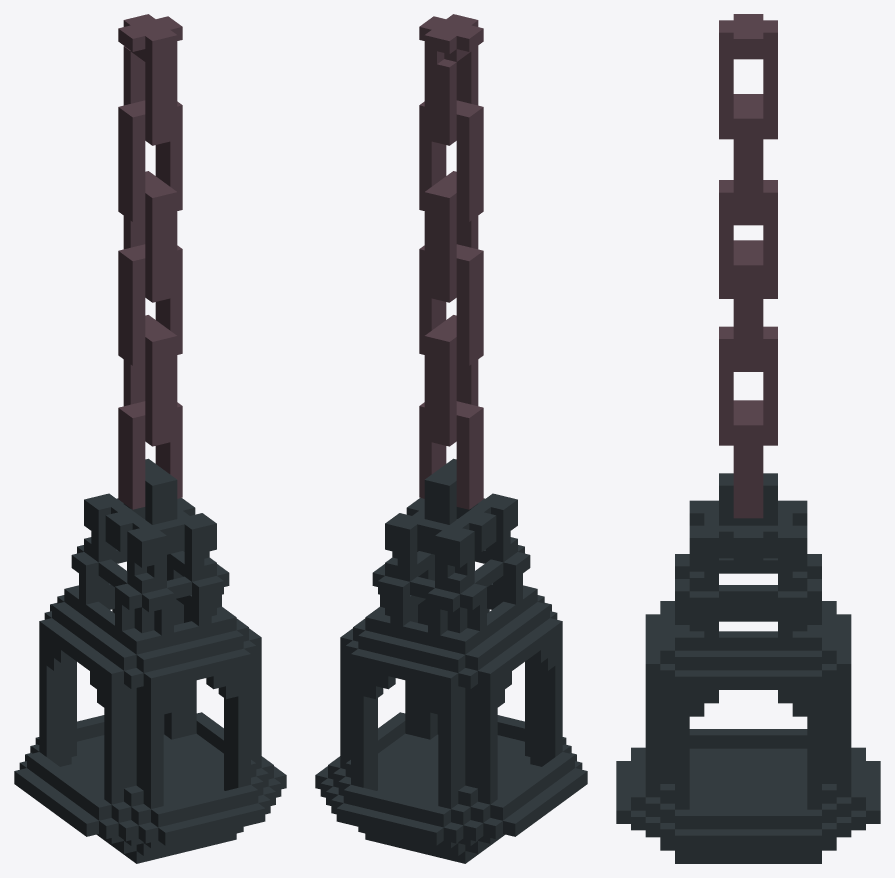
Rendered from final_lantern.obj.
The picture shows the model from 3 angles, left to right: view 1: azimuth 30°, elevation 25°; view 2: azimuth 150°, elevation 25°; view 3: azimuth 270°, elevation 25°; orthographic projection.
Size of the model in its own units: 1.6 by 6.1 by 1.8.
1 material, 1 textured.
